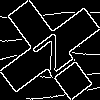Z: (25, 25, 77, 80)
